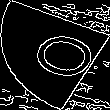O_SE: (12, 24, 98, 86)
